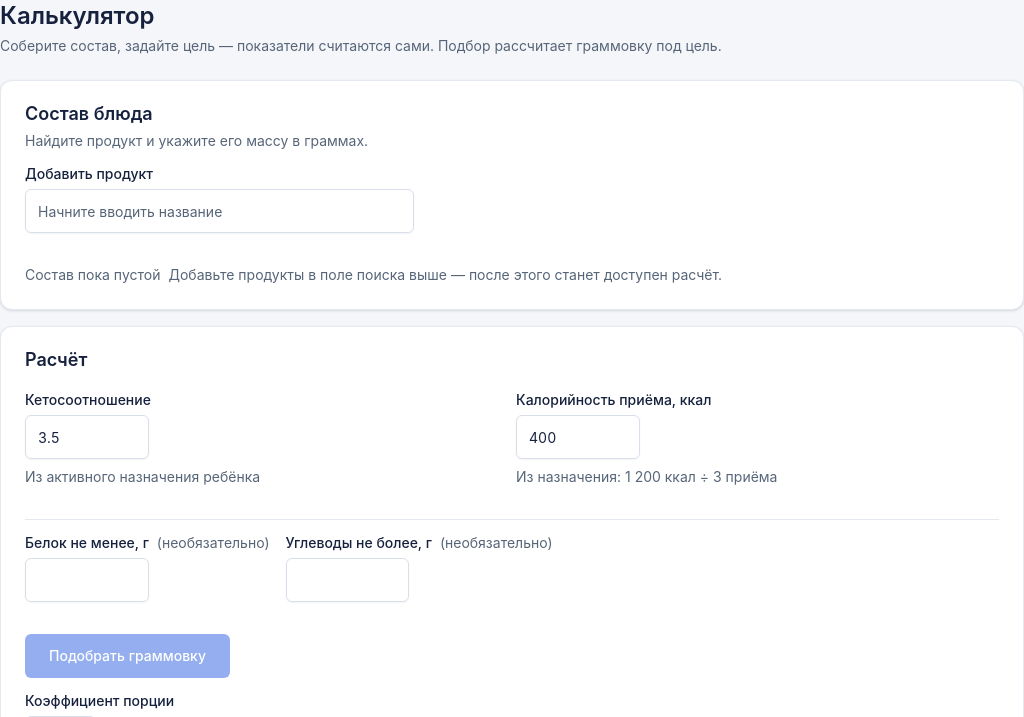
калькулятор › убранный из состава продукт не оставляет своих чисел на экране
Type "масло" into the dropdown labelled "Добавить продукт". click: (219, 211)
box: left=25, top=189, right=414, bottom=233
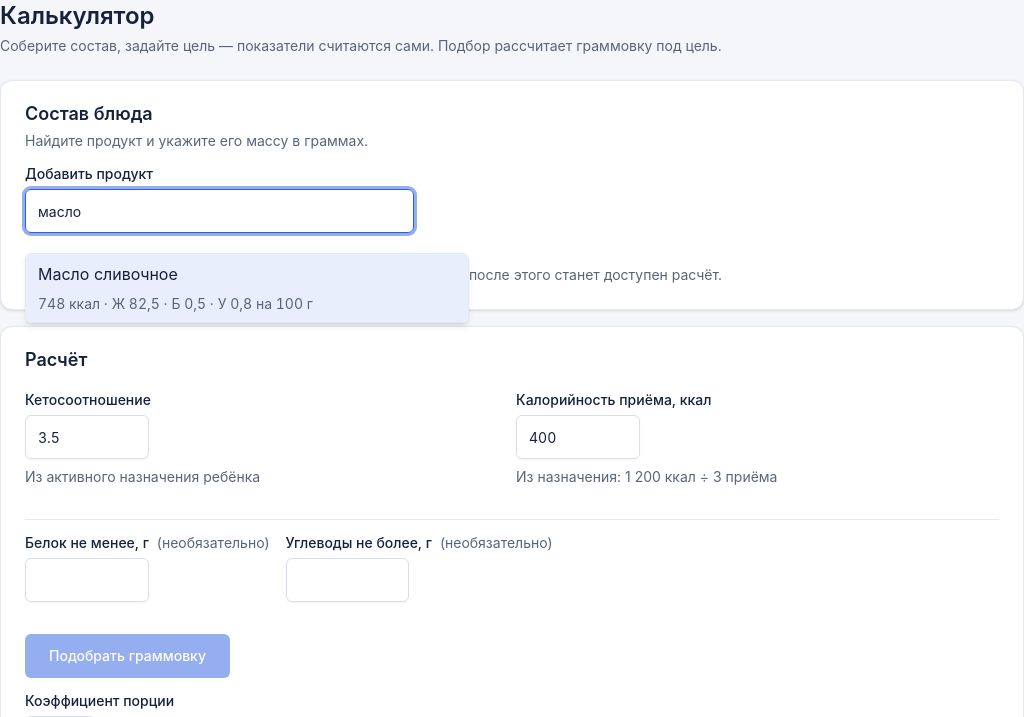
Click the option "Масло сливочное 748 ккал · Ж 82,5 · Б 0,5 · У 0,8 на 100 г". click: (108, 274)
box: left=26, top=254, right=468, bottom=322
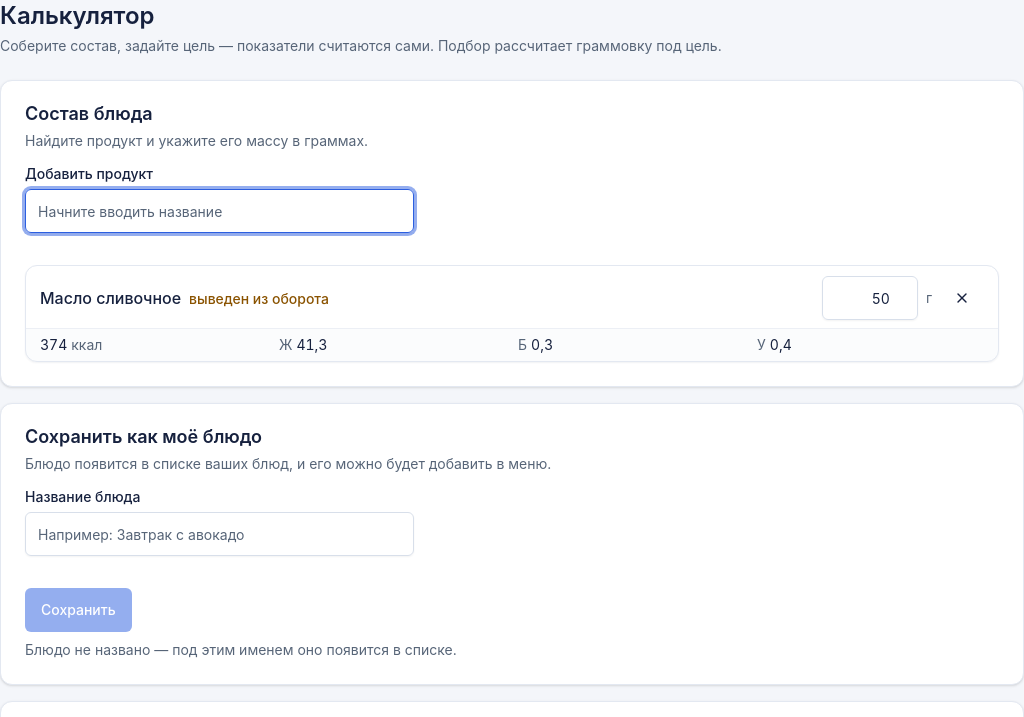
Click the button named "Убрать продукт". click: (962, 298)
box: left=940, top=276, right=984, bottom=320
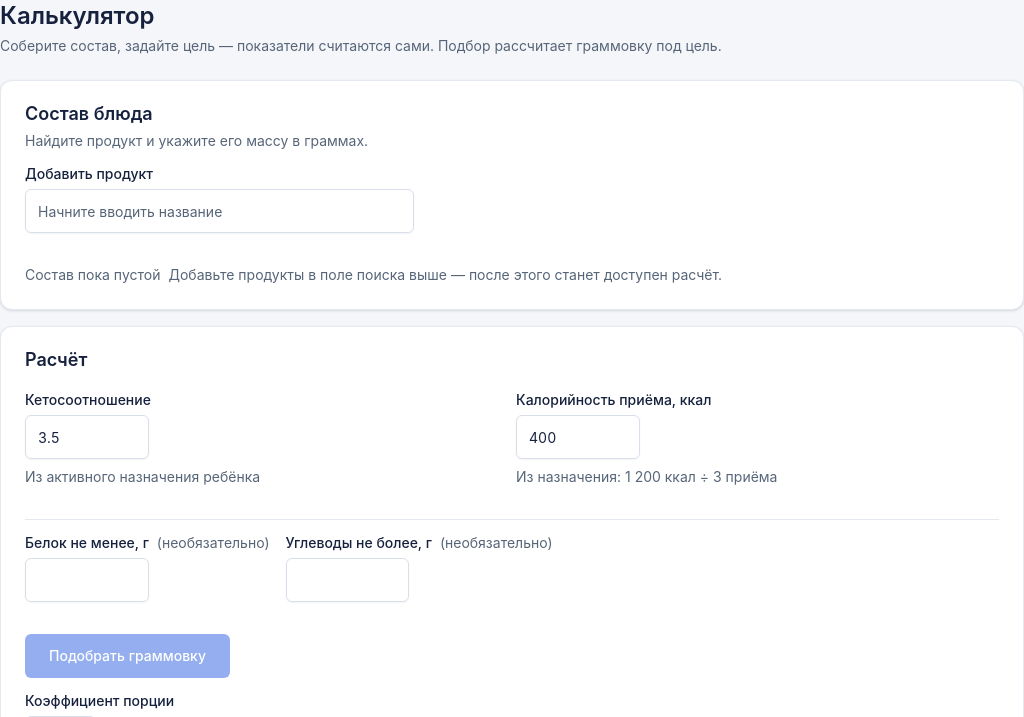
expect the text "374 ккал" is gone: met
expect the heading "Сохранить как моё блюдо" is gone: met
